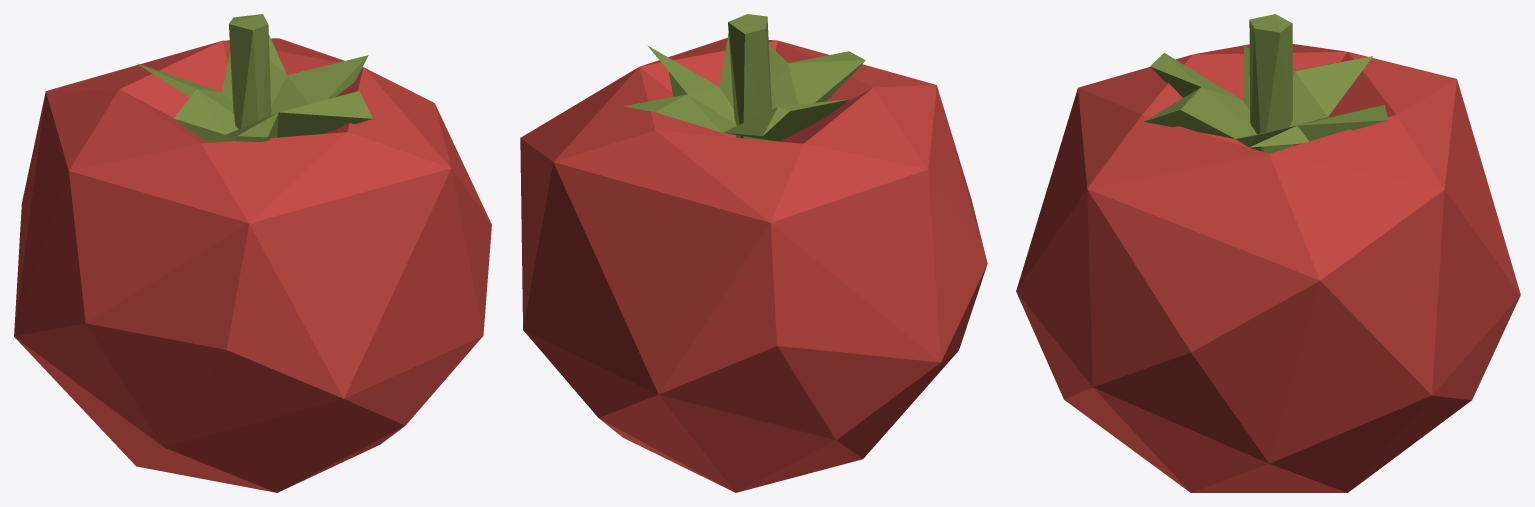
Rendered from Tomato_03.fbx.
3 renders of one model, left to right at view 1: azimuth 30°, elevation 25°; view 2: azimuth 150°, elevation 25°; view 3: azimuth 270°, elevation 25°, orthographic. The views are drawn at different scales.
Parts seen in each view (by area): view 1: Tomato_03; view 2: Tomato_03; view 3: Tomato_03.
Boxes of the visible parts, x1,y1,x2,y2 form: Tomato_03: [14, 14, 491, 492]; Tomato_03: [520, 14, 987, 492]; Tomato_03: [1016, 14, 1520, 492].
Bounding box in the file's own units: 10.62 × 10.75 × 10.75.
